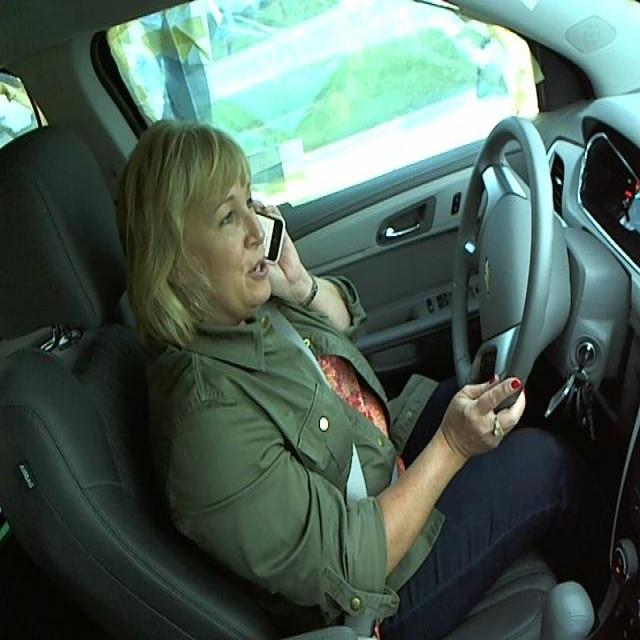using_phone: (99, 120, 342, 347)
